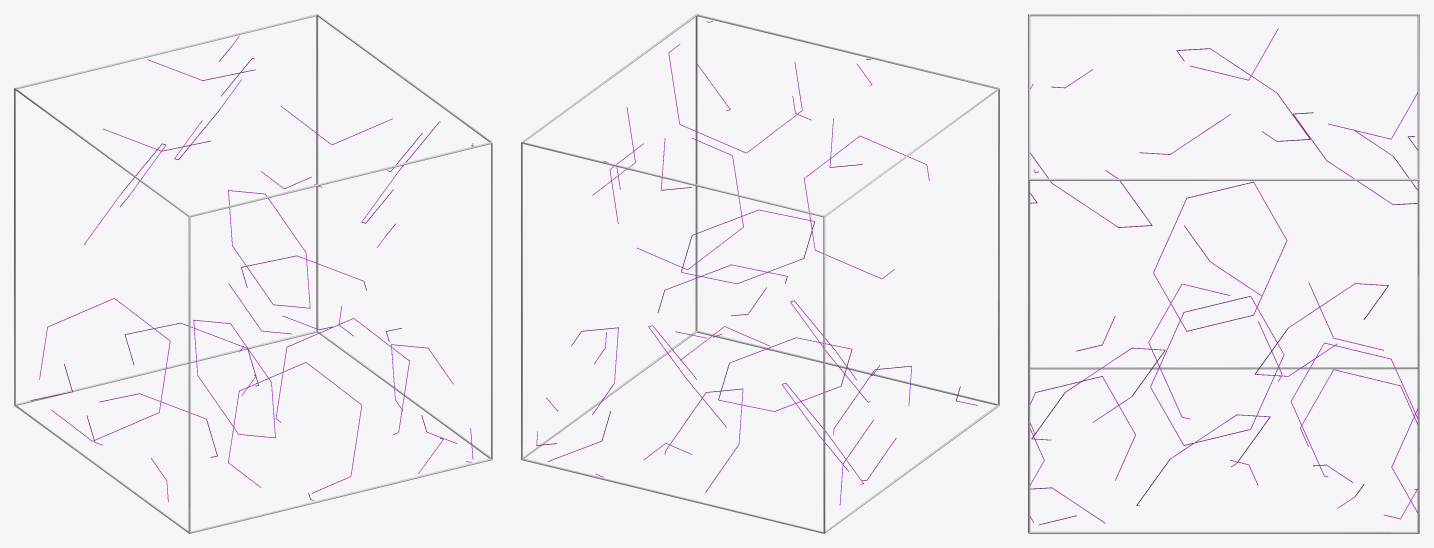
Rendered from ddd_0000.glb.
The picture shows the model from 3 angles, left to right: view 1: azimuth 30°, elevation 25°; view 2: azimuth 150°, elevation 25°; view 3: azimuth 270°, elevation 25°; orthographic projection. The views are drawn at different scales.
Parts seen in each view (by area): view 1: Shape_IndexedLineSet, Shape_IndexedLineSet.001; view 2: Shape_IndexedLineSet, Shape_IndexedLineSet.001; view 3: Shape_IndexedLineSet, Shape_IndexedLineSet.001.
Part boxes in pixels (x1,y1,x2,y2): Shape_IndexedLineSet: [14, 14, 492, 533]; Shape_IndexedLineSet.001: [30, 35, 473, 502]; Shape_IndexedLineSet: [521, 14, 999, 533]; Shape_IndexedLineSet.001: [536, 21, 977, 505]; Shape_IndexedLineSet: [1028, 14, 1419, 533]; Shape_IndexedLineSet.001: [1030, 28, 1417, 524].
Bounding box in the file's own units: 10.06 × 10.06 × 10.06.
